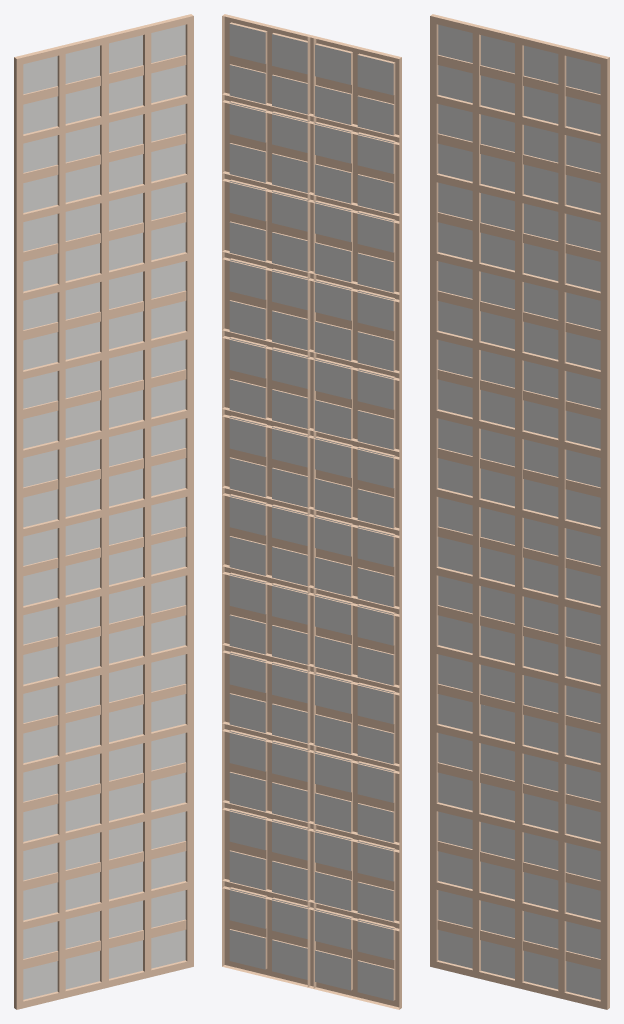
The model's file is cortina.fbx.
3 renders of one model, left to right at view 1: azimuth 30°, elevation 25°; view 2: azimuth 150°, elevation 25°; view 3: azimuth 330°, elevation 25°, orthographic.
Visible parts, largest first — view 1: mergedBlocks; view 2: mergedBlocks; view 3: mergedBlocks.
Boxes of the visible parts, box(x1,y1,x2,y2) form: mergedBlocks: box(14, 14, 193, 1009); mergedBlocks: box(222, 14, 401, 1009); mergedBlocks: box(430, 14, 609, 1009).
Size of the model in its own units: 11.79 by 60.48 by 0.3.
